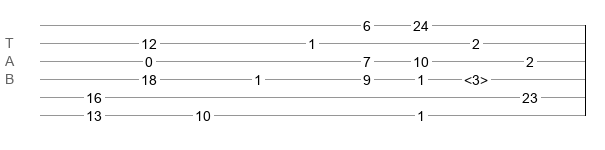0: (145, 54, 153, 64)
1: (254, 72, 262, 82), (308, 36, 316, 46), (417, 108, 425, 118), (417, 72, 425, 82)
10: (195, 108, 211, 118), (413, 54, 429, 64)
12: (141, 36, 157, 46)
13: (86, 108, 102, 118)
16: (86, 90, 102, 100)
18: (141, 72, 157, 82)
2: (472, 36, 480, 46), (526, 54, 534, 64)
23: (522, 90, 538, 100)
24: (413, 18, 429, 28)
6: (363, 18, 371, 28)
7: (363, 54, 371, 64)
9: (363, 72, 371, 82)
harmonic: (464, 72, 488, 82)
